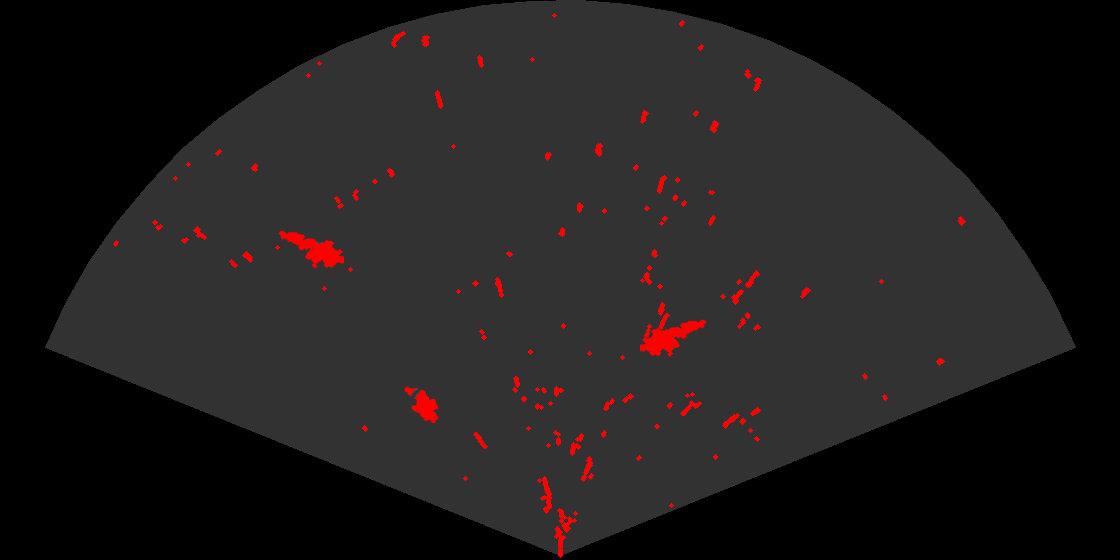AUV: (403, 385, 440, 425)
frogman: (640, 318, 708, 359), (277, 229, 344, 270)
